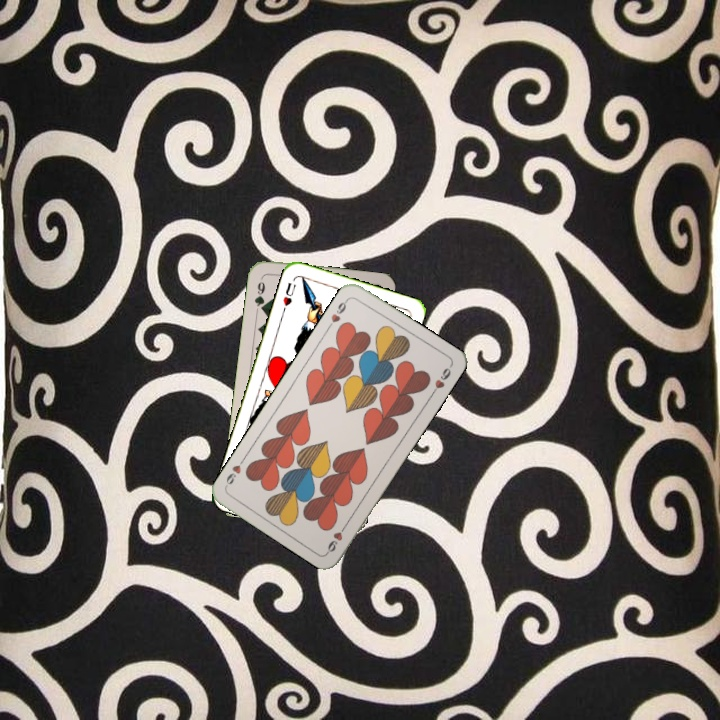G9: (250, 273, 268, 314)
H9: (324, 295, 351, 331), (323, 519, 350, 555)
HU: (278, 278, 298, 315)
